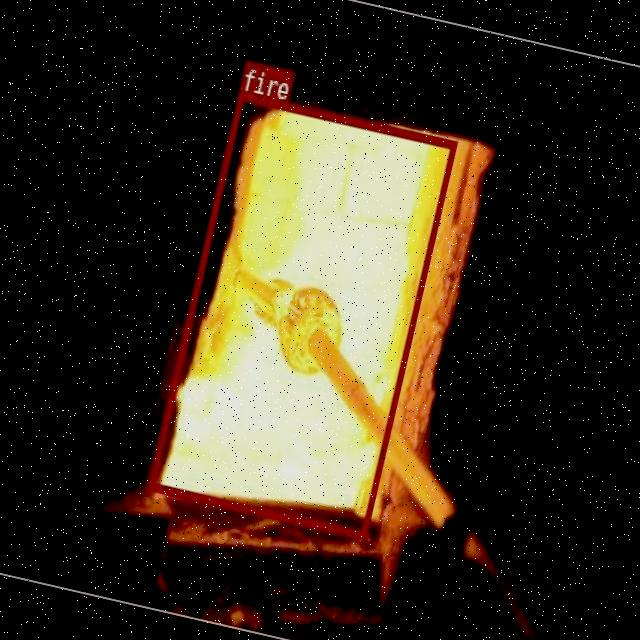fire: (147, 89, 456, 538)
